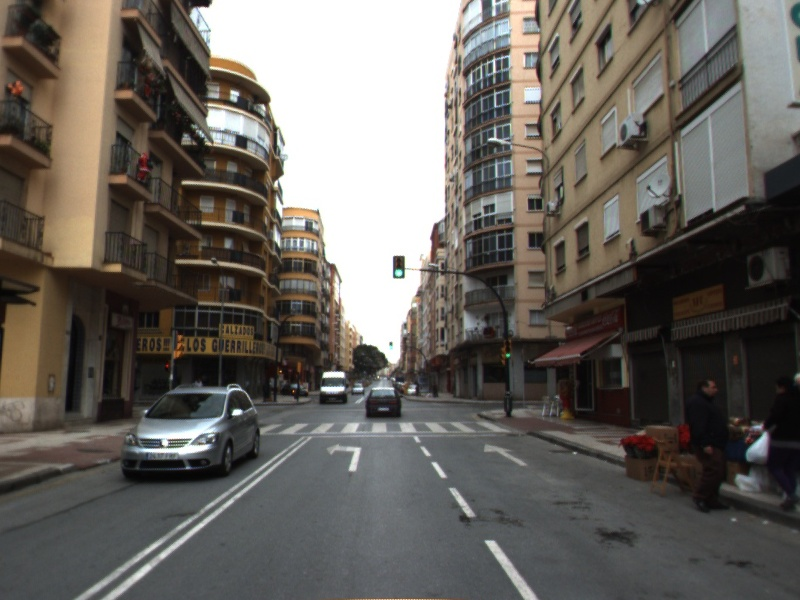LEFT: (325, 442, 363, 473)
STRAIGHT: (482, 442, 530, 467)
